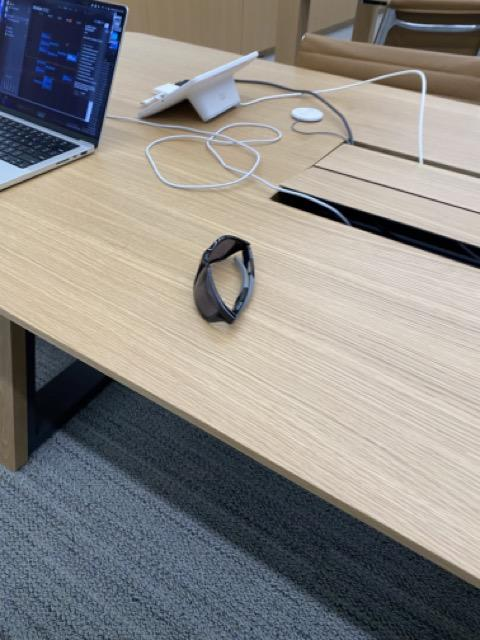Sunglasses: (194, 233, 254, 327)
